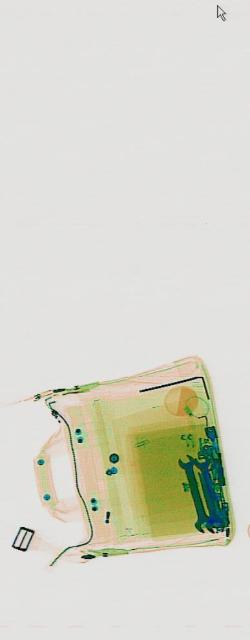Wrench: (175, 441, 210, 541), (190, 441, 223, 543)
